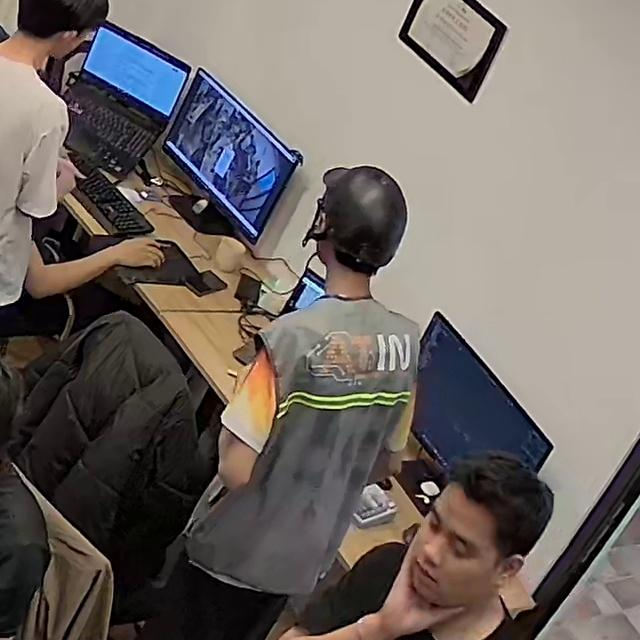helmet: (310, 165, 408, 268)
no_helmet: (440, 454, 555, 562)
none: (295, 542, 538, 640)
vest: (189, 295, 419, 603)
